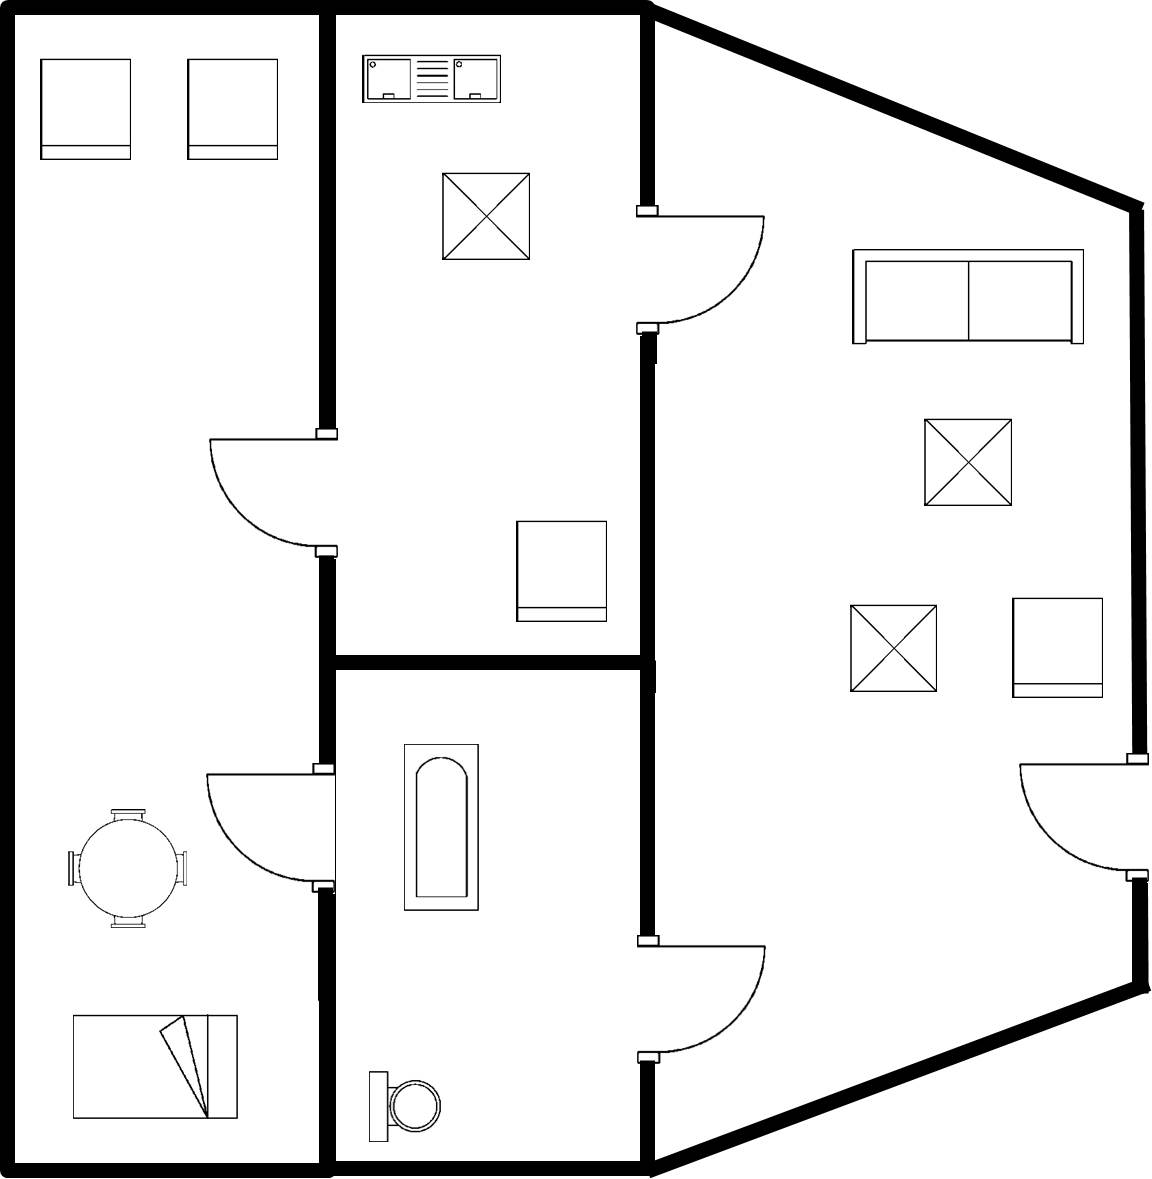bed: (62, 1005, 246, 1130)
coffee_table: (843, 597, 953, 705), (910, 412, 1023, 518), (430, 164, 540, 271)
large_sink: (362, 1063, 446, 1151)
large_sofa: (841, 239, 1096, 356)
round_table: (58, 799, 196, 935)
small_sofa: (173, 49, 295, 173), (997, 589, 1115, 707), (30, 52, 142, 173), (504, 511, 617, 630)
tub: (392, 734, 485, 926)
twin_sink: (353, 47, 507, 113)
